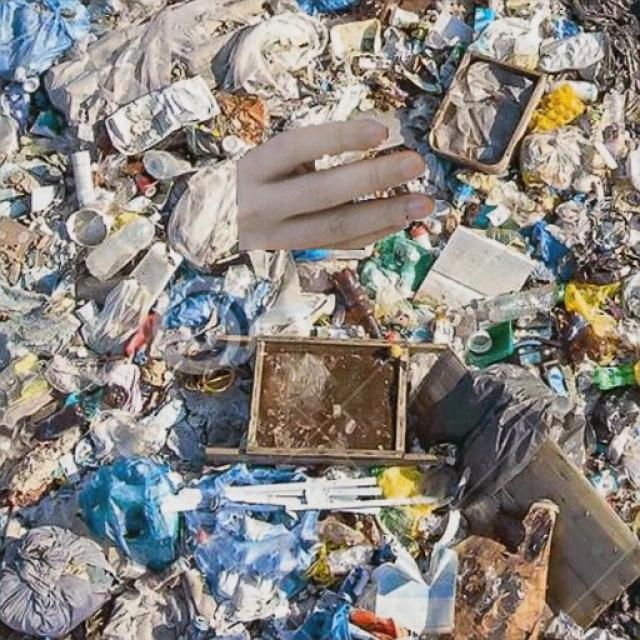Person in Rubble: (236, 118, 435, 248)
